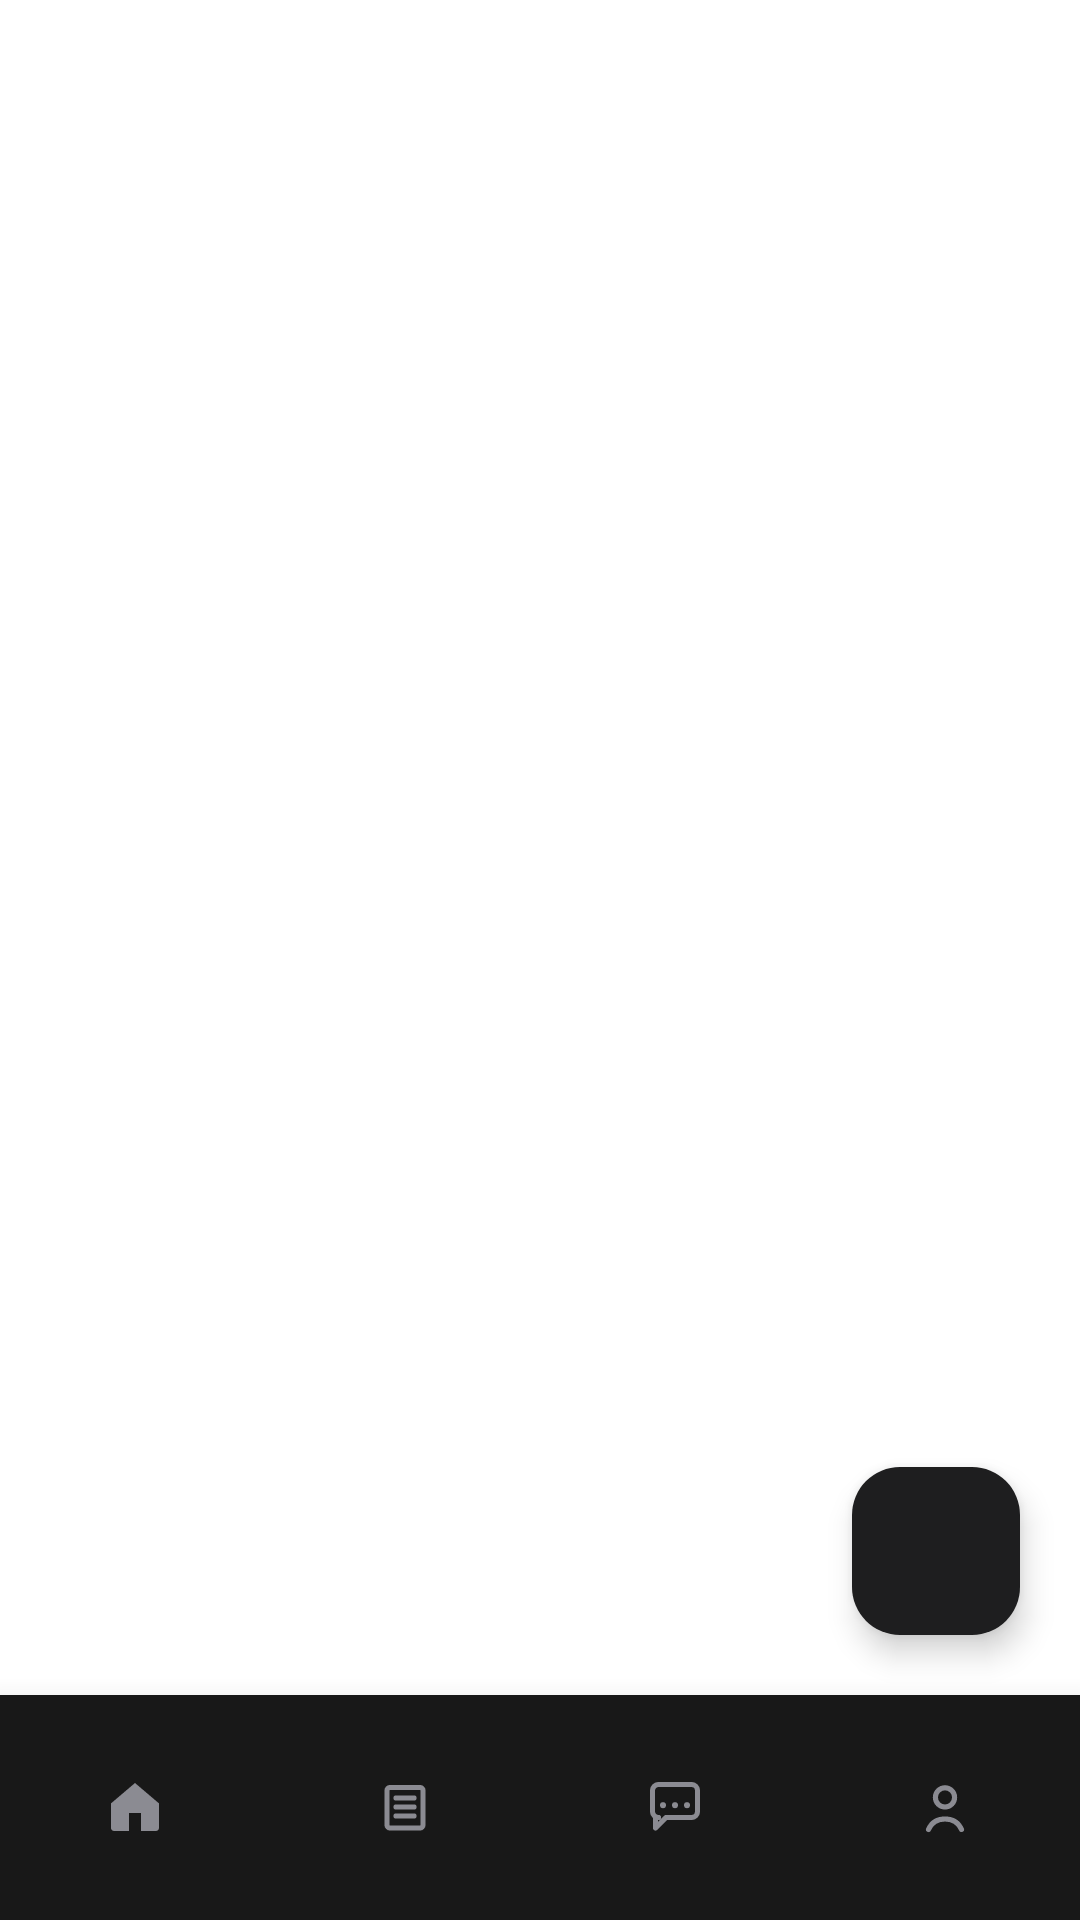

Screen size 1080*1920. Icon name, then its box in pixels as {"x1": x1, "y1": y1, "x2": x2, "y2": y2}:
Chat: {"x1": 650, "y1": 1782, "x2": 700, "y2": 1831}
Home: {"x1": 111, "y1": 1783, "x2": 159, "y2": 1831}
Orders: {"x1": 384, "y1": 1785, "x2": 426, "y2": 1831}
Profile: {"x1": 926, "y1": 1785, "x2": 964, "y2": 1832}
